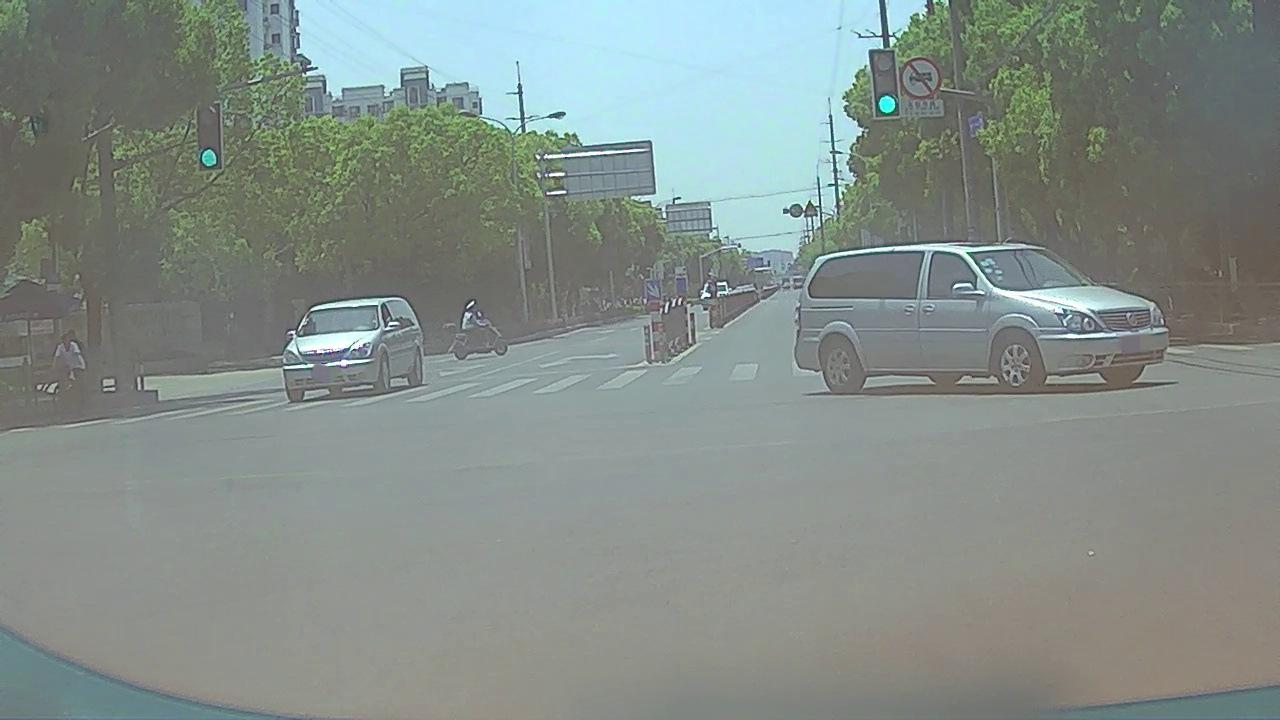traffic_light: (869, 49, 901, 119), (196, 105, 223, 166)
